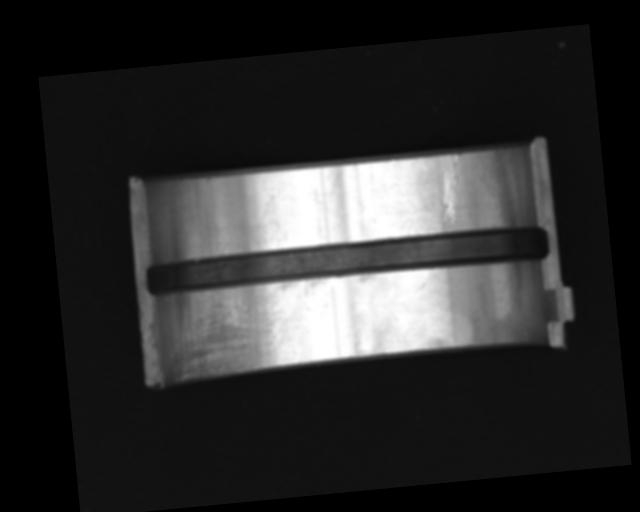gap: (144, 224, 551, 300)
nick: (435, 152, 466, 225)
scratch: (164, 281, 303, 384)
